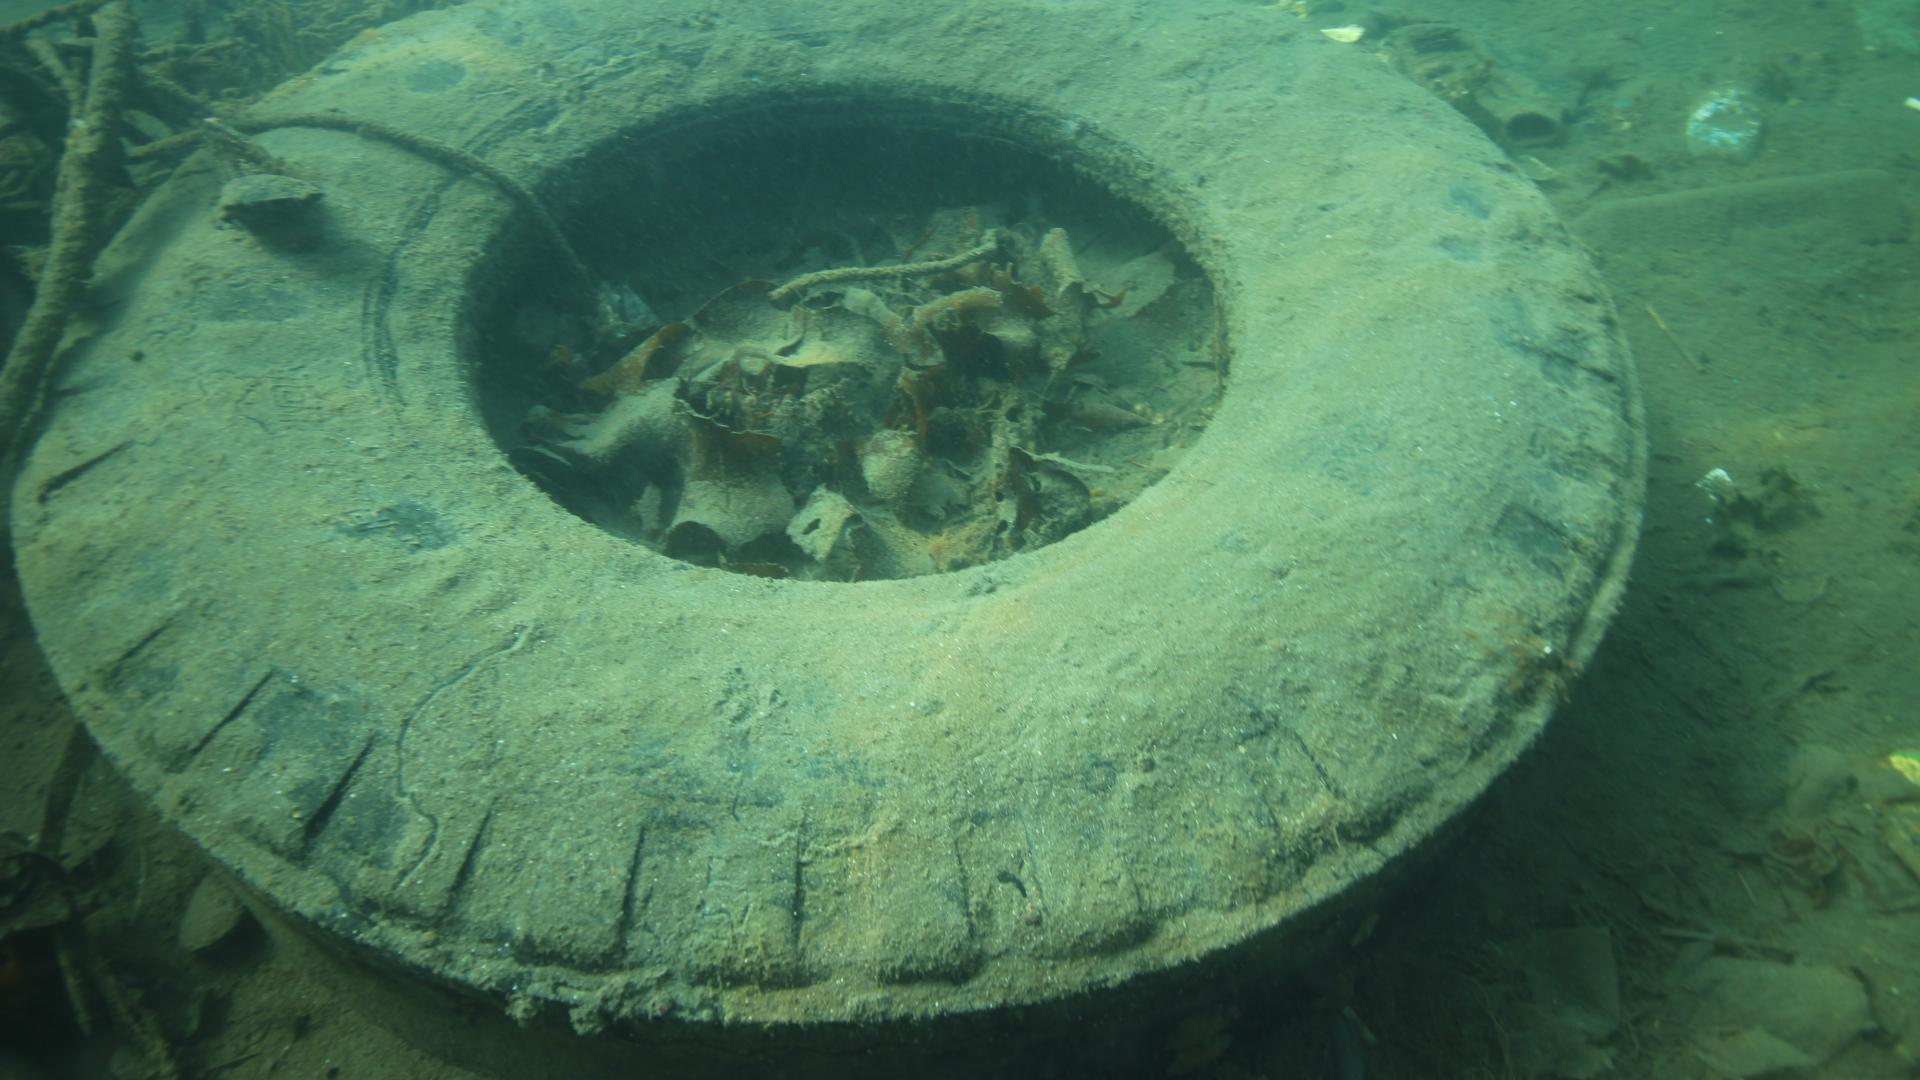bundle of ropes: (0, 0, 597, 429)
tire: (11, 0, 1650, 1080)
